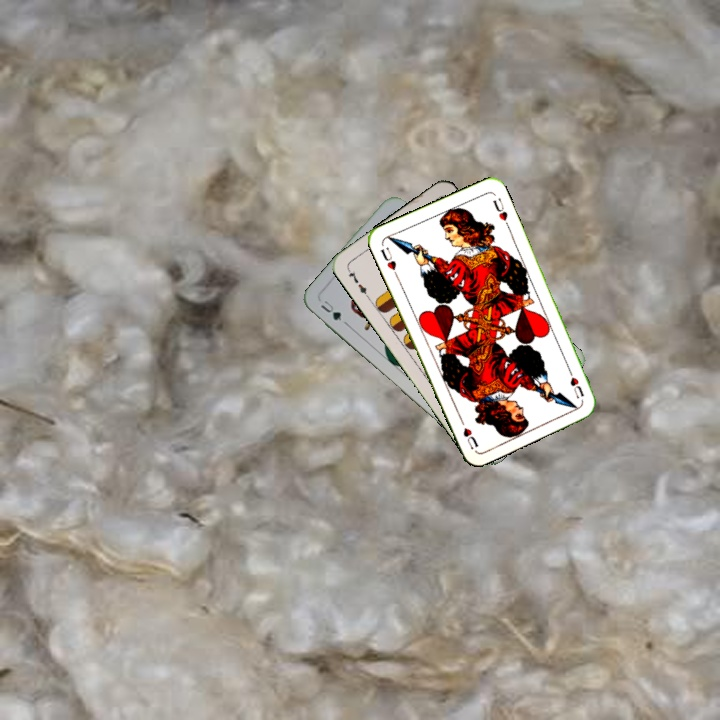E7: (343, 265, 371, 300)
GU: (316, 296, 344, 324)
HU: (377, 243, 400, 279), (566, 373, 587, 401)
